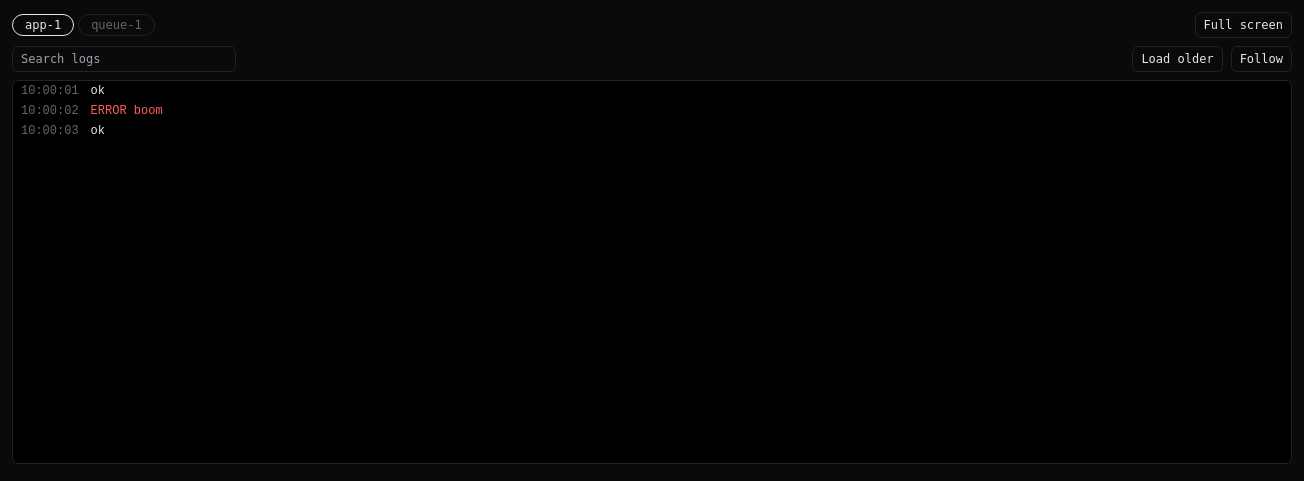
it: LogViewer › searches the buffer and counts matches
Check: the text "ERROR boom" is shown, box [91, 101, 163, 121]
Type "boom" into the search field labelled "Search logs".
click(124, 59); type("boom")  # box [12, 46, 236, 72]
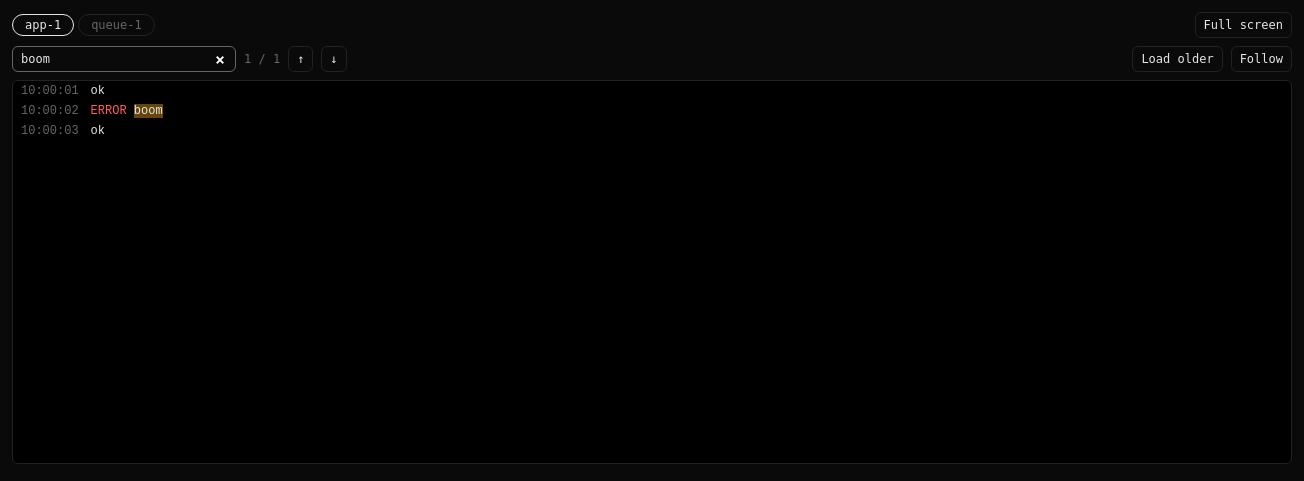
Check: the text "1 / 1" is shown, box [244, 51, 280, 67]
Replace the text in the search field named "Search logs" with "zzz" at (124, 59), box [12, 46, 236, 72]
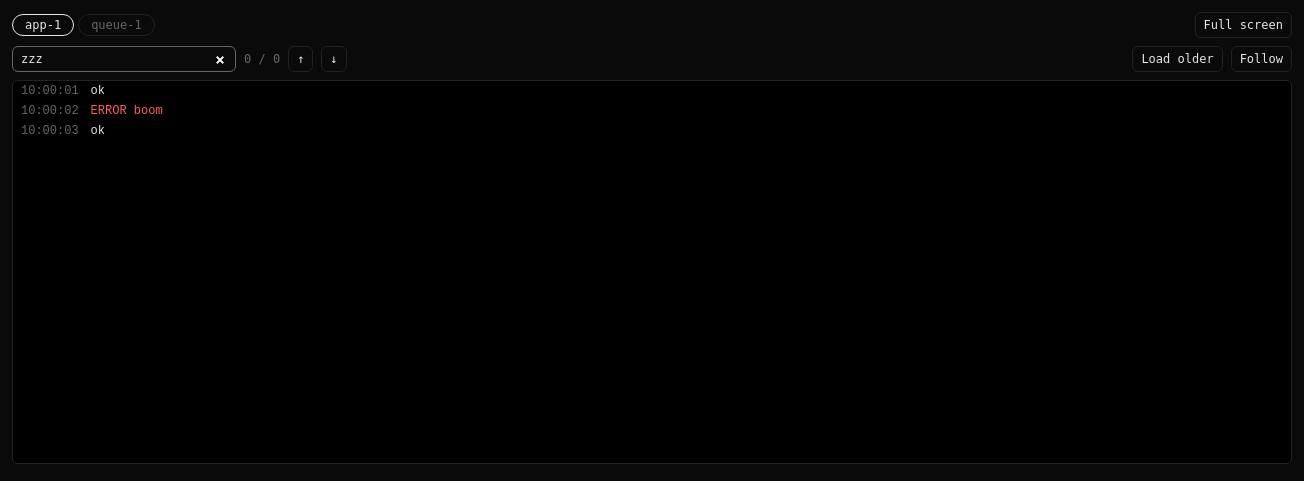
Check: the text "0 / 0" is shown, box [244, 51, 280, 67]
